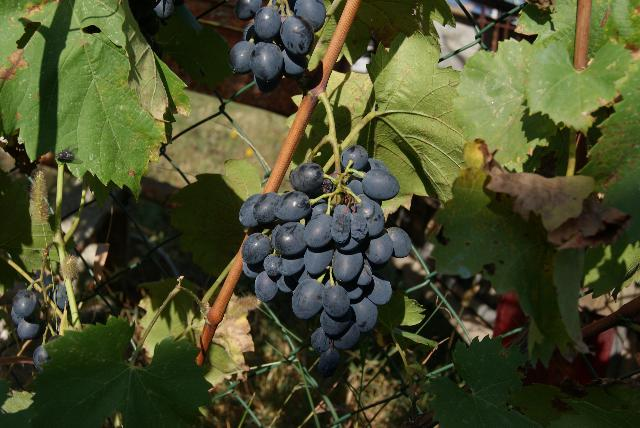grapes: (240, 145, 410, 378)
